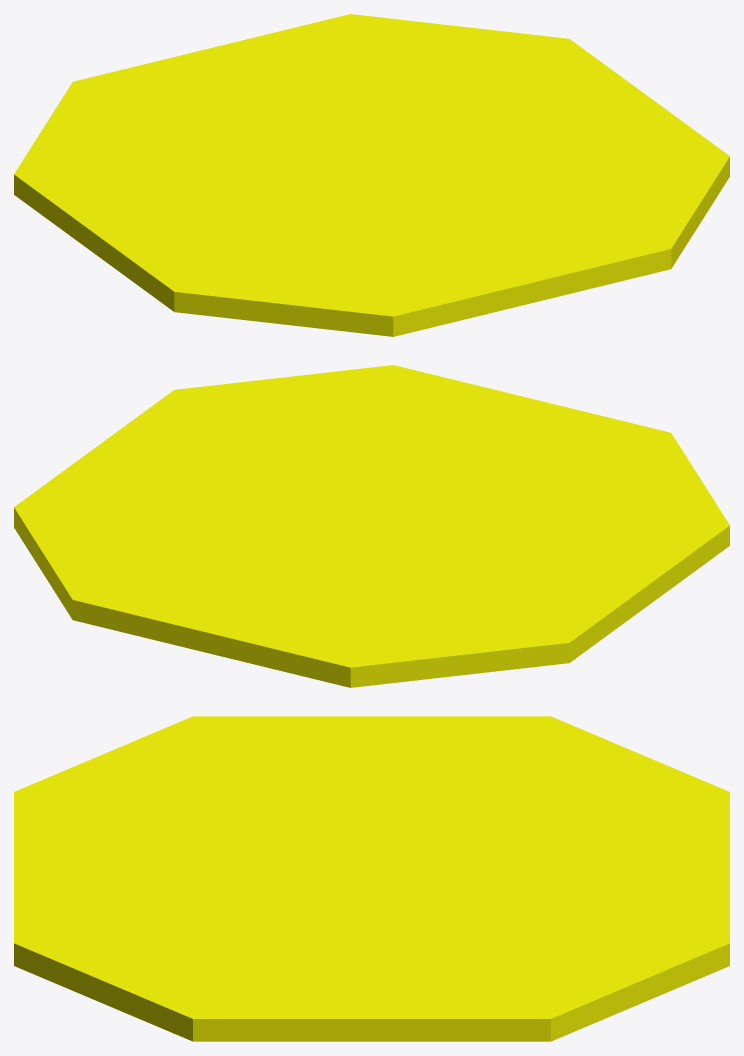
The model's file is poly_brown.dae.
3 renders of one model, top to bottom at view 1: azimuth 30°, elevation 25°; view 2: azimuth 150°, elevation 25°; view 3: azimuth 270°, elevation 25°, orthographic. The views are drawn at different scales.
Visible parts, largest first — view 1: SketchUp; view 2: SketchUp; view 3: SketchUp.
Part boxes in pixels (x1,y1,x2,y2): SketchUp: (14, 14, 729, 336); SketchUp: (14, 365, 729, 687); SketchUp: (14, 716, 729, 1041).
Bounding box in the file's own units: 20 × 20 × 0.7.
